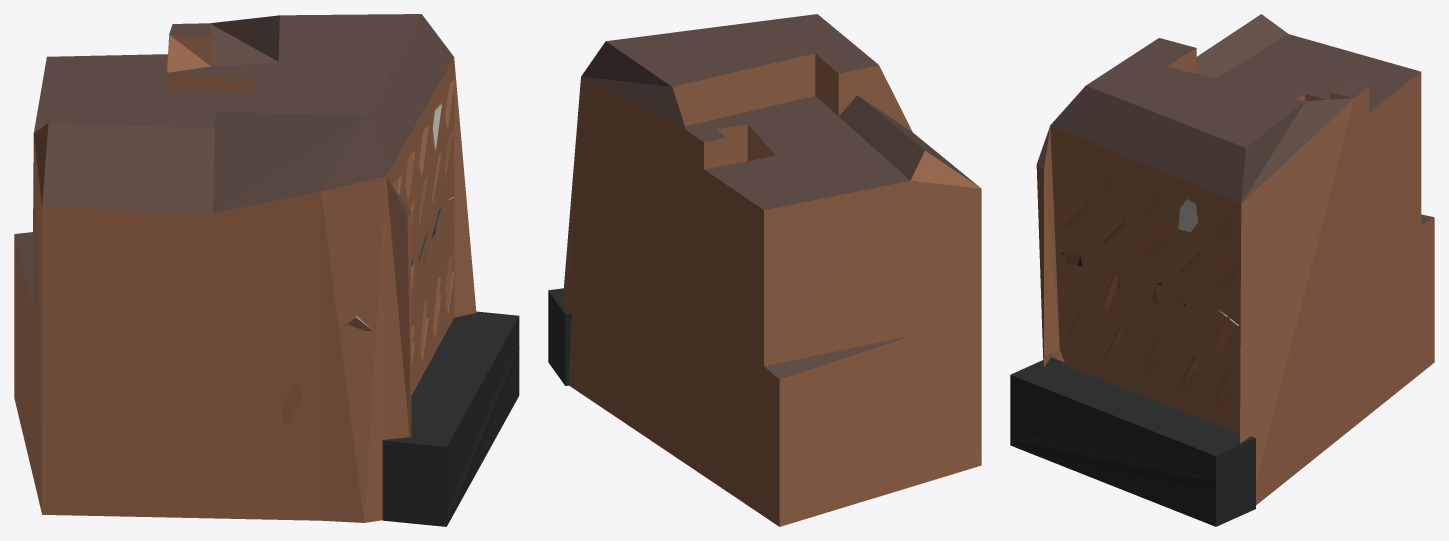
The model's file is roode-leeuw-damrak.lod2.glb.
The picture shows the model from 3 angles, left to right: view 1: azimuth 30°, elevation 25°; view 2: azimuth 150°, elevation 25°; view 3: azimuth 270°, elevation 25°; orthographic projection. The views are drawn at different scales.
Parts seen in each view (by area): view 1: lod2; view 2: lod2; view 3: lod2.
Part boxes in pixels (<box>): lod2: <box>14,14,519,526</box>; lod2: <box>548,14,981,526</box>; lod2: <box>1010,14,1434,526</box>.
Bounding box in the file's own units: 27.93 × 21.66 × 24.19.
